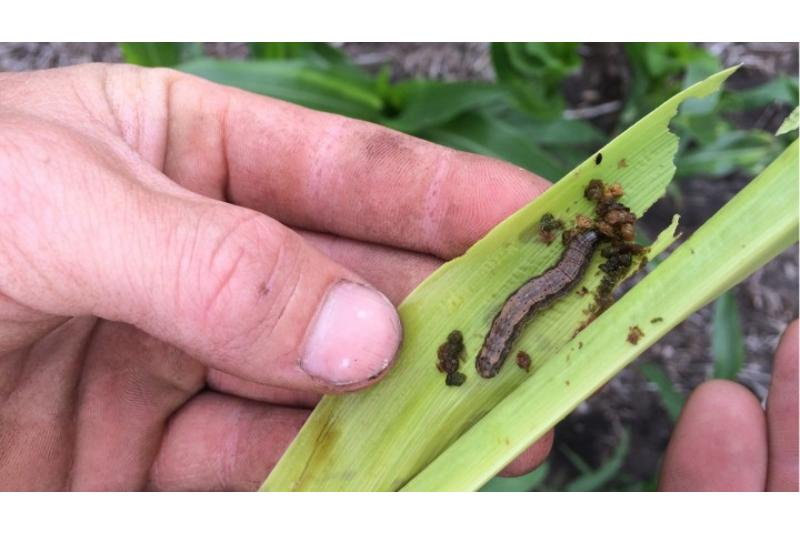fall-armyworm: (475, 231, 607, 379)
